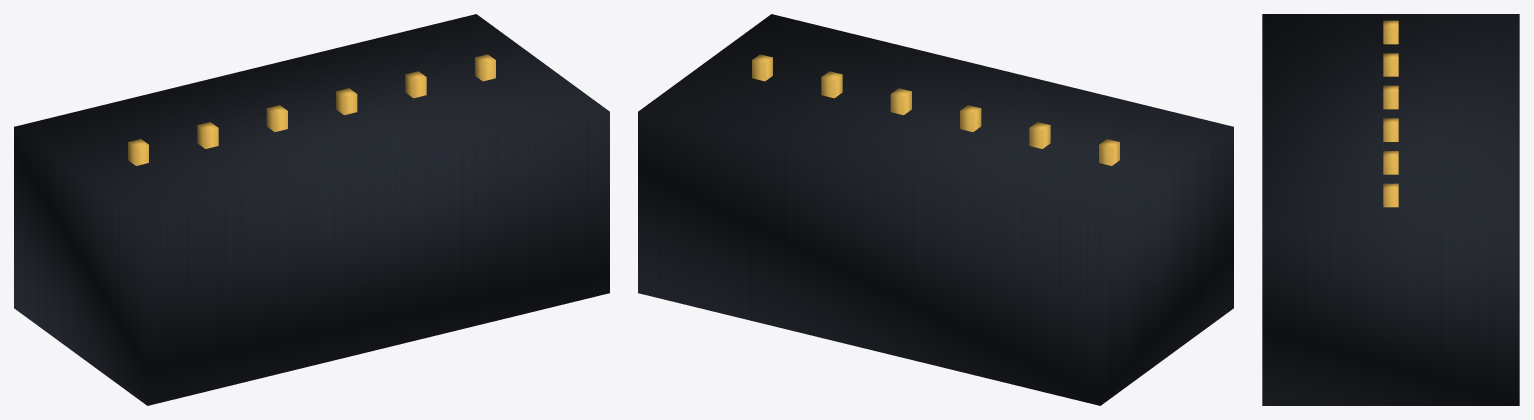
3 renders of one model, left to right at view 1: azimuth 30°, elevation 25°; view 2: azimuth 150°, elevation 25°; view 3: azimuth 270°, elevation 25°, orthographic. The views are drawn at different scales.
Parts seen in each view (by area): view 1: L105_J6_black_0, L105_J6_gold_1; view 2: L105_J6_black_0, L105_J6_gold_1; view 3: L105_J6_black_0, L105_J6_gold_1.
Part boxes in pixels (x1=…): L105_J6_black_0: x1=14, y1=14, x2=609, y2=405; L105_J6_gold_1: x1=128, y1=54, x2=495, y2=165; L105_J6_black_0: x1=638, y1=14, x2=1233, y2=405; L105_J6_gold_1: x1=752, y1=54, x2=1119, y2=165; L105_J6_black_0: x1=1262, y1=14, x2=1519, y2=405; L105_J6_gold_1: x1=1383, y1=20, x2=1398, y2=207.
Size of the model in its own units: 0.012 by 0.00495 by 0.006.
2 materials, 2 textured.
